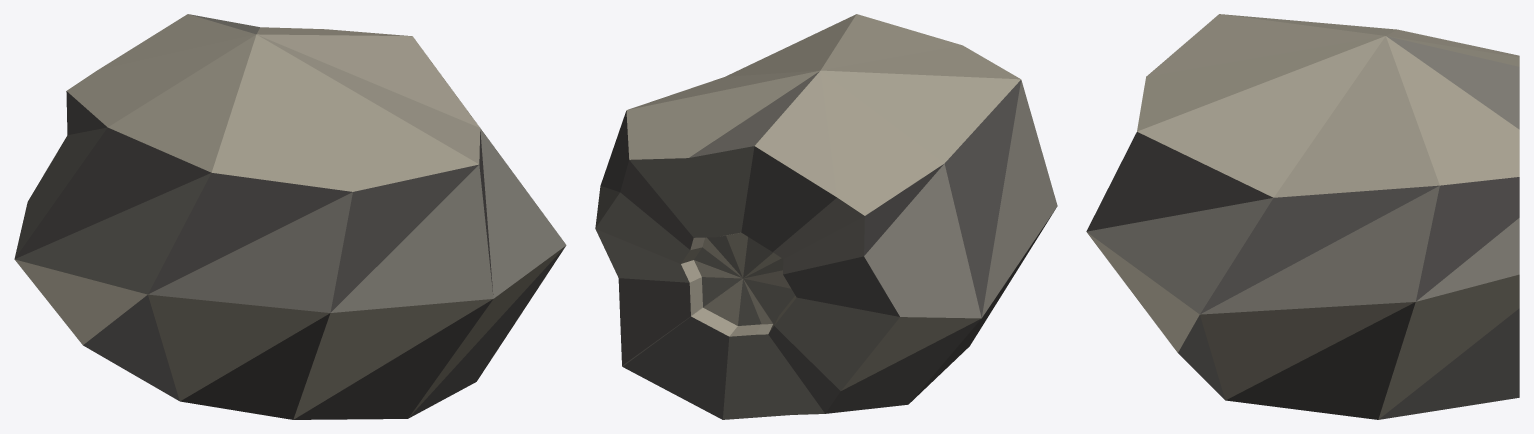
File: RawWindow.fbx
3 renders of one model, left to right at view 1: azimuth 30°, elevation 25°; view 2: azimuth 150°, elevation 25°; view 3: azimuth 270°, elevation 25°, orthographic. The views are drawn at different scales.
Visible parts, largest first — view 1: RawWindow_Mesh; view 2: RawWindow_Mesh; view 3: RawWindow_Mesh.
Part boxes in pixels (x1,y1,x2,y2): RawWindow_Mesh: (14, 14, 566, 419); RawWindow_Mesh: (595, 14, 1057, 419); RawWindow_Mesh: (1086, 14, 1519, 419).
Bounding box in the file's own units: 0.55 × 0.45 × 0.5.
